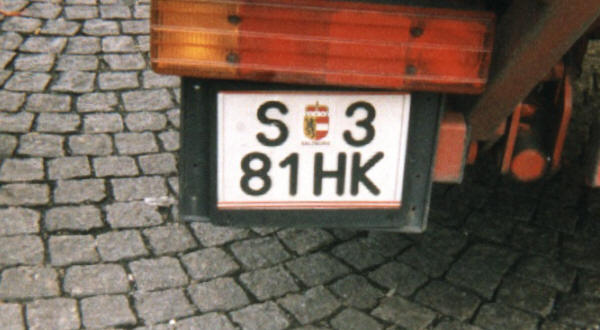license_plate: (216, 89, 411, 210)
